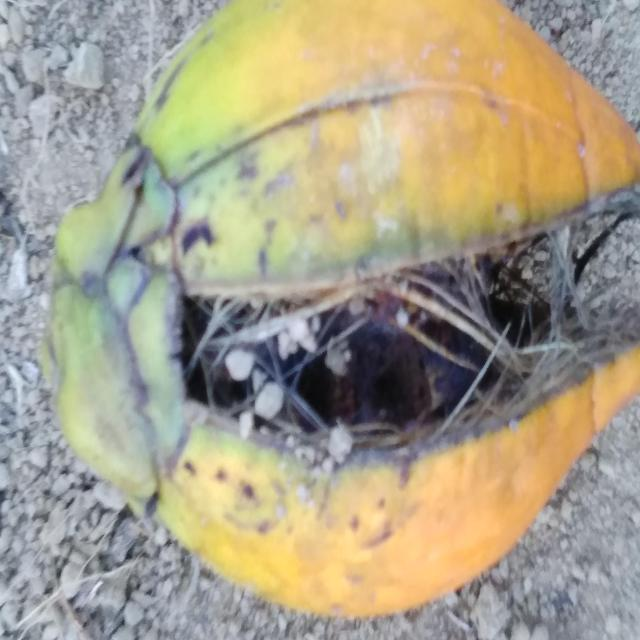damaged: (37, 0, 640, 621)
